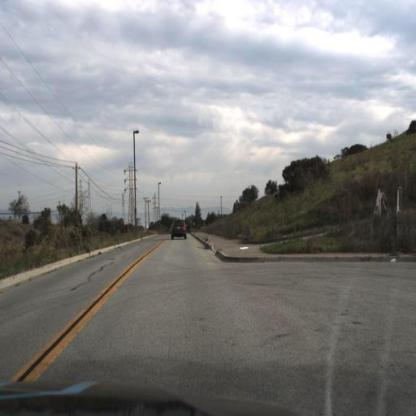car: (170, 218, 188, 244)
